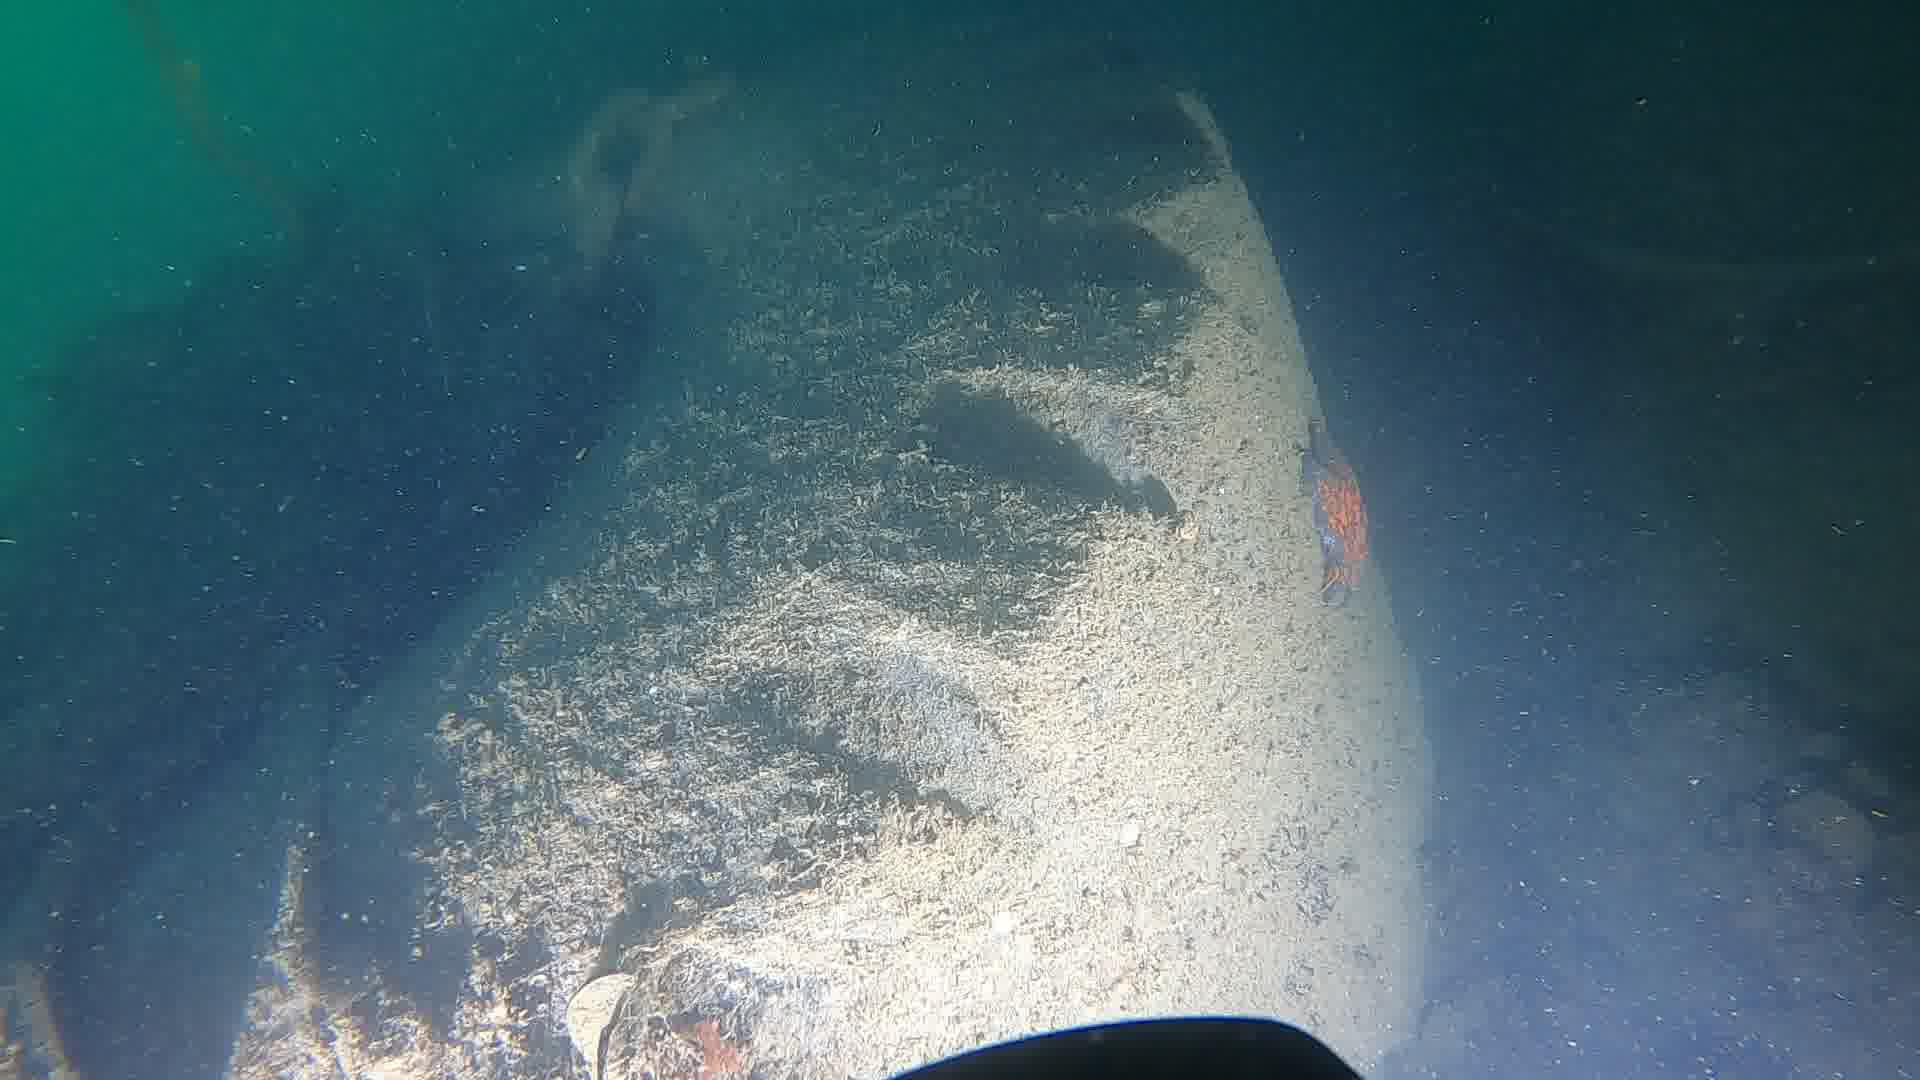tire: (0, 76, 1439, 1080)
